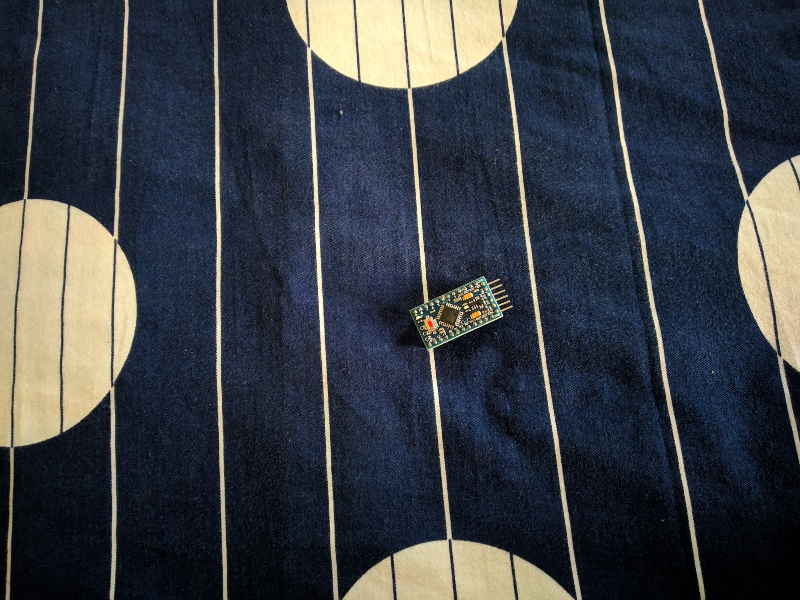Arduino Pro Mini: (403, 272, 508, 354)
